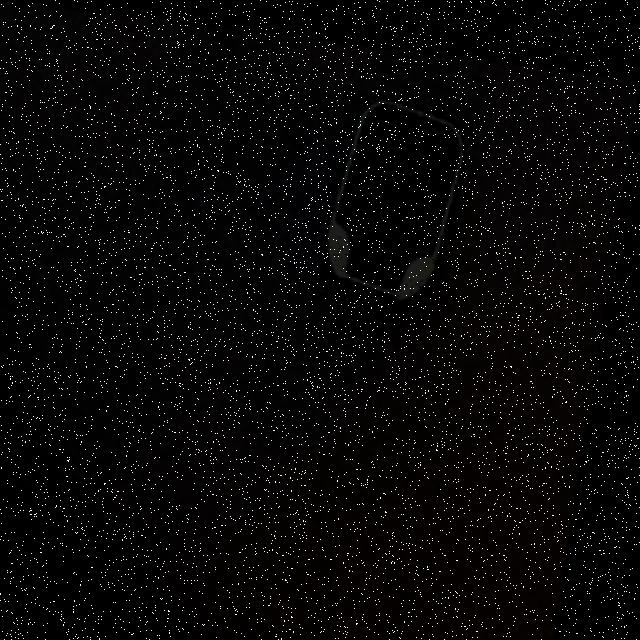adapter: (317, 79, 475, 298)
